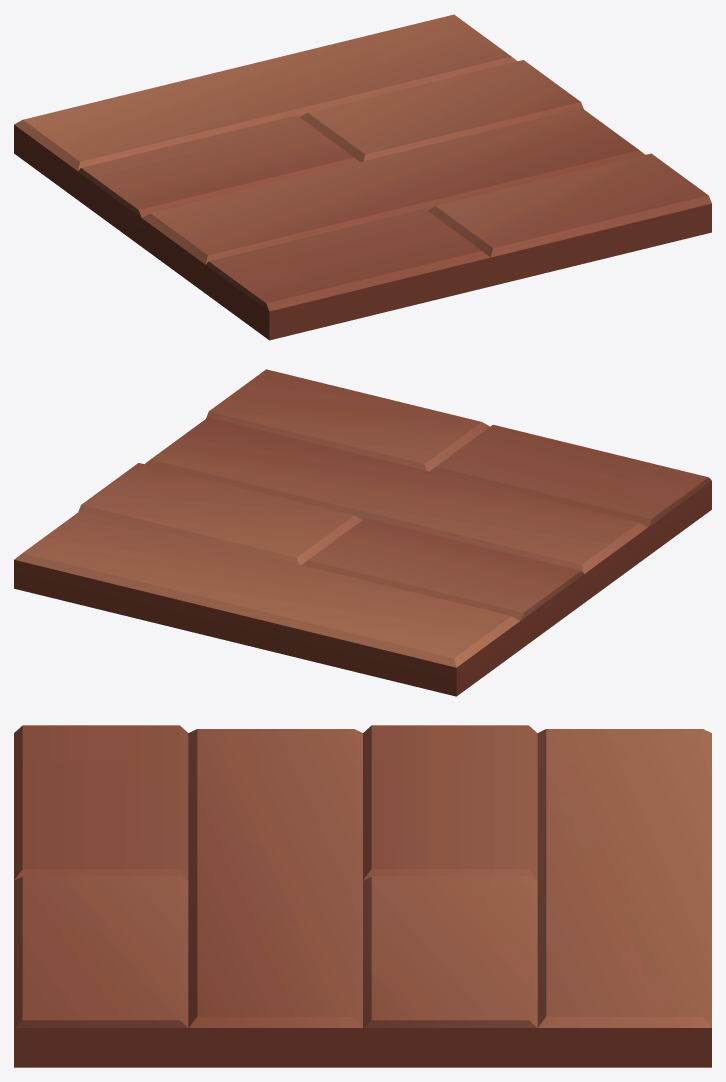
File: kaykit-dungeon-remastered-floor-wood-small-gltf.glb
3 views of the same model, one above another, from view 1: azimuth 30°, elevation 25°; view 2: azimuth 150°, elevation 25°; view 3: azimuth 270°, elevation 25° (orthographic). The views are drawn at different scales.
Visible parts, largest first — view 1: floor_wood_small; view 2: floor_wood_small; view 3: floor_wood_small.
Boxes of the visible parts, x1=… form: floor_wood_small: x1=14, y1=14, x2=711, y2=340; floor_wood_small: x1=14, y1=369, x2=711, y2=696; floor_wood_small: x1=14, y1=725, x2=711, y2=1067.
Size of the model in its own units: 2 by 0.1499 by 2.
Materials: 1 (1 with a texture image).
